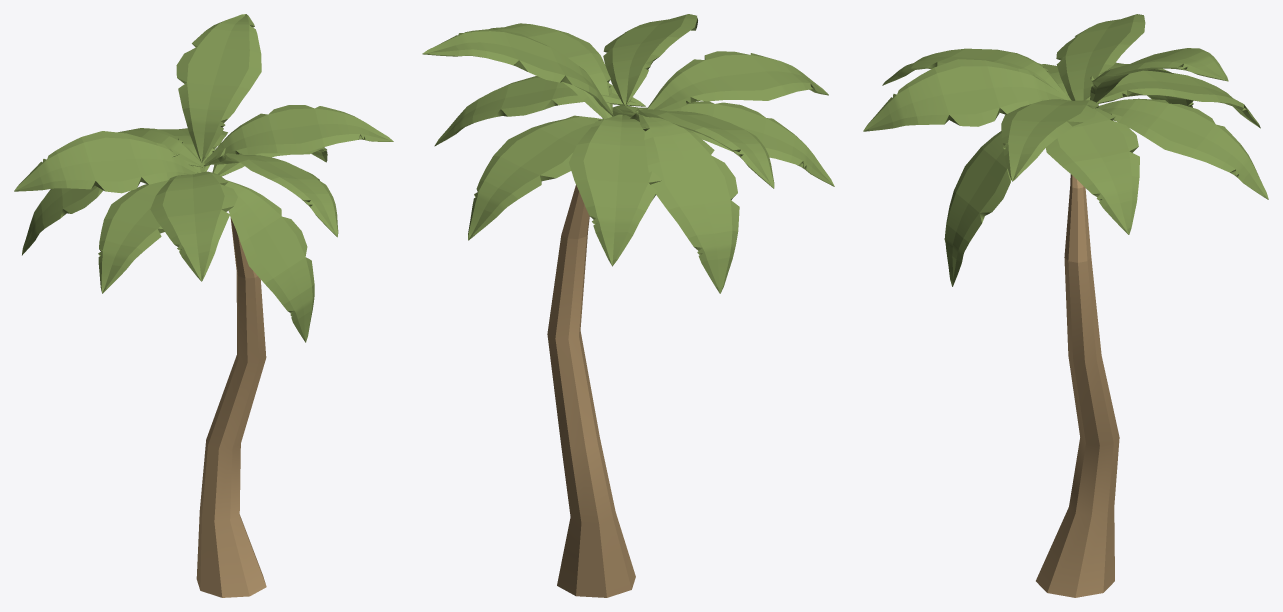
The model's file is atoll_palmTree_02.fbx.
3 renders of one model, left to right at view 1: azimuth 30°, elevation 25°; view 2: azimuth 150°, elevation 25°; view 3: azimuth 270°, elevation 25°, orthographic. The views are drawn at different scales.
Parts seen in each view (by area): view 1: TRUNK_1, LEAF_15, LEAF_25, LEAF_21, LEAF_23, LEAF_20, LEAF_19, LEAF_22, LEAF_24, LEAF_18, LEAF_16, LEAF_17; view 2: TRUNK_1, LEAF_24, LEAF_18, LEAF_17, LEAF_23, LEAF_15, LEAF_22, LEAF_16, LEAF_19, LEAF_25, LEAF_20; view 3: TRUNK_1, LEAF_22, LEAF_16, LEAF_17, LEAF_21, LEAF_20, LEAF_25, LEAF_18, LEAF_15, LEAF_23.
Part boxes in pixels (<box>): TRUNK_1: <box>196,210,266,597</box>; LEAF_15: <box>176,14,261,162</box>; LEAF_25: <box>14,131,199,193</box>; LEAF_21: <box>225,180,314,342</box>; LEAF_23: <box>150,171,237,281</box>; LEAF_20: <box>203,105,393,166</box>; LEAF_19: <box>98,180,168,293</box>; LEAF_22: <box>208,153,338,237</box>; LEAF_24: <box>22,152,179,255</box>; LEAF_18: <box>118,128,204,167</box>; LEAF_16: <box>212,135,327,176</box>; LEAF_17: <box>158,128,227,173</box>; TRUNK_1: <box>547,185,635,597</box>; LEAF_24: <box>638,109,739,293</box>; LEAF_18: <box>569,114,661,266</box>; LEAF_17: <box>468,115,603,240</box>; LEAF_23: <box>647,51,828,110</box>; LEAF_15: <box>422,29,613,116</box>; LEAF_22: <box>603,14,697,106</box>; LEAF_16: <box>434,76,645,146</box>; LEAF_19: <box>667,101,834,186</box>; LEAF_25: <box>630,109,774,188</box>; LEAF_20: <box>489,23,612,119</box>; TRUNK_1: <box>1036,174,1119,597</box>; LEAF_22: <box>863,59,1071,131</box>; LEAF_16: <box>1046,108,1139,234</box>; LEAF_17: <box>1098,98,1268,199</box>; LEAF_21: <box>944,131,1011,286</box>; LEAF_20: <box>1001,99,1098,181</box>; LEAF_25: <box>1056,14,1145,100</box>; LEAF_18: <box>1085,70,1260,128</box>; LEAF_15: <box>1090,48,1228,102</box>; LEAF_23: <box>882,48,1066,96</box>.
Size of the model in its own units: 716 by 1077 by 715.
